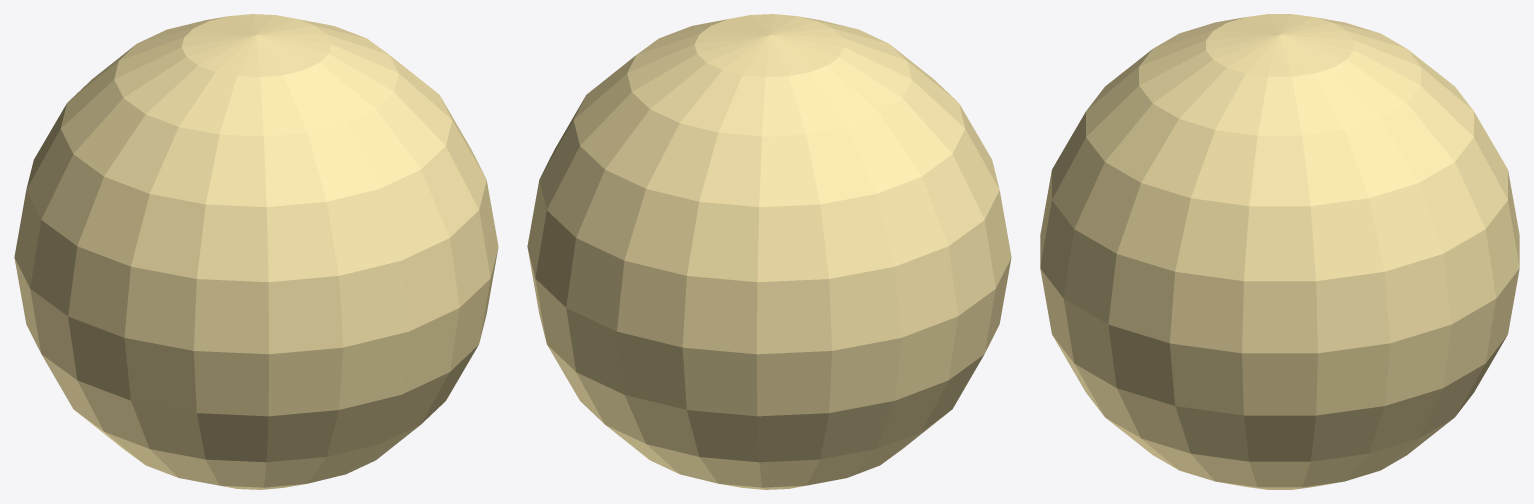
File: dc_metro_roof_k1l_light_layer.obj
3 views of the same model, side by side, from view 1: azimuth 30°, elevation 25°; view 2: azimuth 150°, elevation 25°; view 3: azimuth 270°, elevation 25° (orthographic).
Parts seen in each view (by area): view 1: part3l; view 2: part3l; view 3: part3l.
Part boxes in pixels (box(x1,y1,x2,y2)): part3l: box(14, 14, 498, 489); part3l: box(527, 14, 1011, 489); part3l: box(1040, 14, 1519, 489).
Bounding box in the file's own units: 0.375 × 0.375 × 0.375.
Materials: 1 (1 with a texture image).
